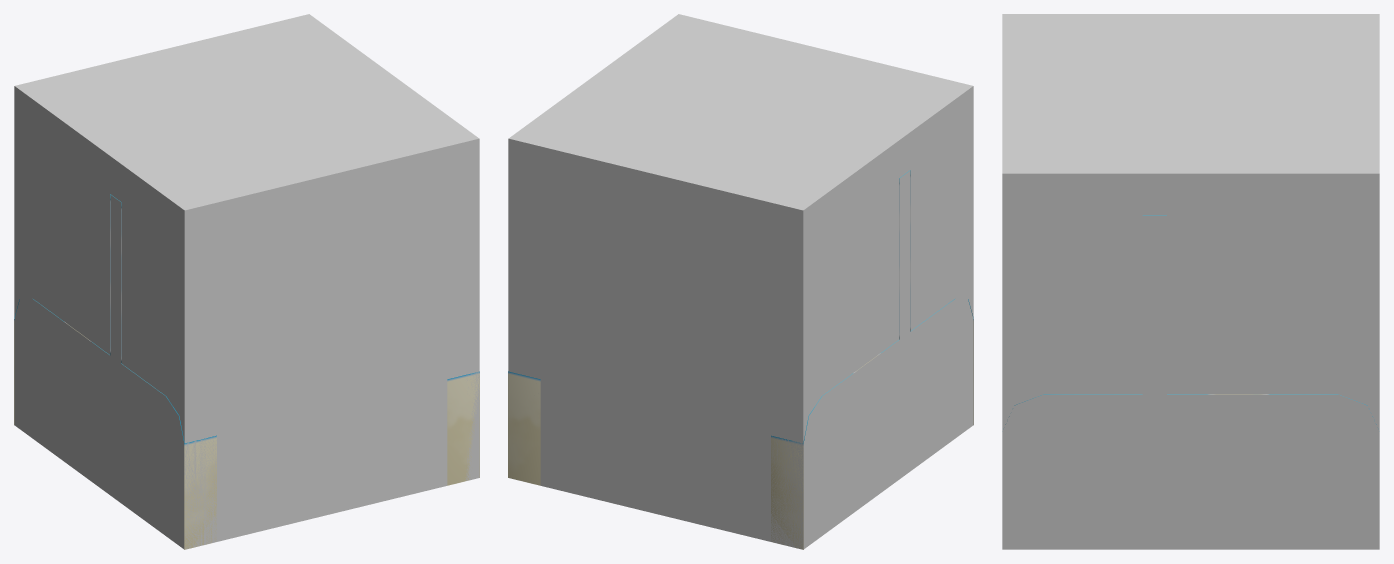
File: portique.fbx
3 views of the same model, side by side, from view 1: azimuth 30°, elevation 25°; view 2: azimuth 150°, elevation 25°; view 3: azimuth 270°, elevation 25° (orthographic). The views are drawn at different scales.
Visible parts, largest first — view 1: coll_portique, portique; view 2: coll_portique, portique; view 3: coll_portique.
Boxes of the visible parts, x1,y1,x2,y2 form: coll_portique: [14, 14, 479, 549]; portique: [14, 194, 479, 549]; coll_portique: [508, 14, 973, 549]; portique: [508, 170, 973, 549]; coll_portique: [1002, 14, 1379, 549].
Size of the model in its own units: 100 by 110 by 100.
